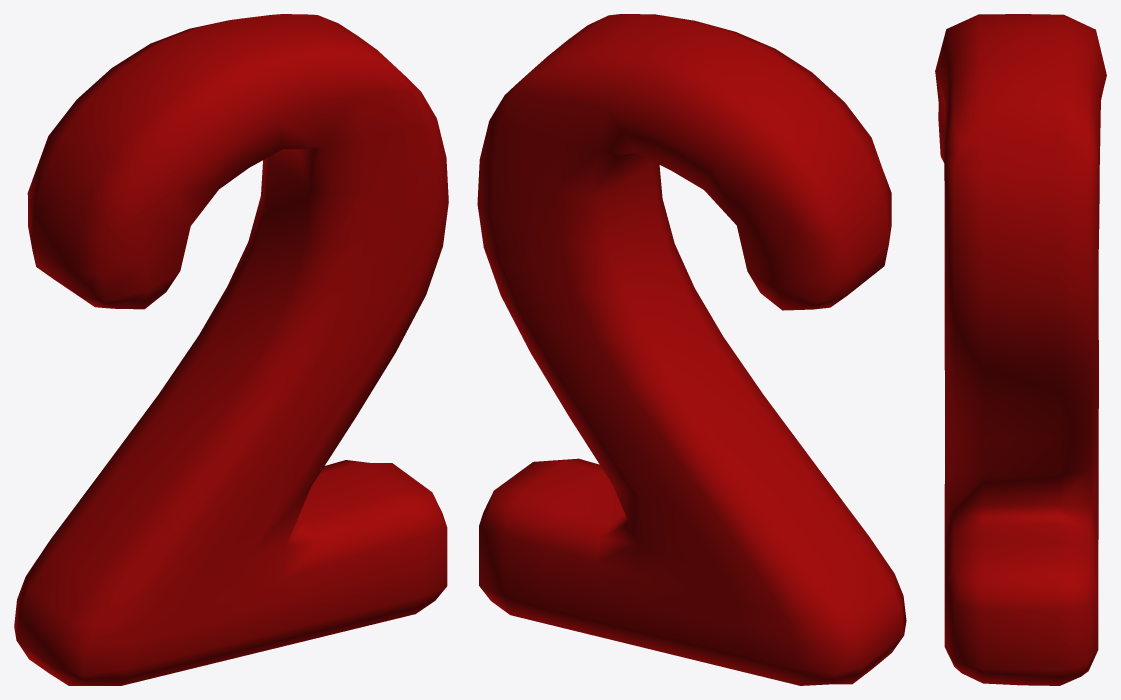
The model's file is mod_no2_v1.fbx.
3 renders of one model, left to right at view 1: azimuth 30°, elevation 25°; view 2: azimuth 150°, elevation 25°; view 3: azimuth 270°, elevation 25°, orthographic. The views are drawn at different scales.
Visible parts, largest first — view 1: pCube4; view 2: pCube4; view 3: pCube4.
Boxes of the visible parts, x1,y1,x2,y2 form: pCube4: [14, 14, 448, 685]; pCube4: [477, 14, 906, 685]; pCube4: [935, 14, 1106, 685].
Bounding box in the file's own units: 0.3269 × 0.4844 × 0.1306.
